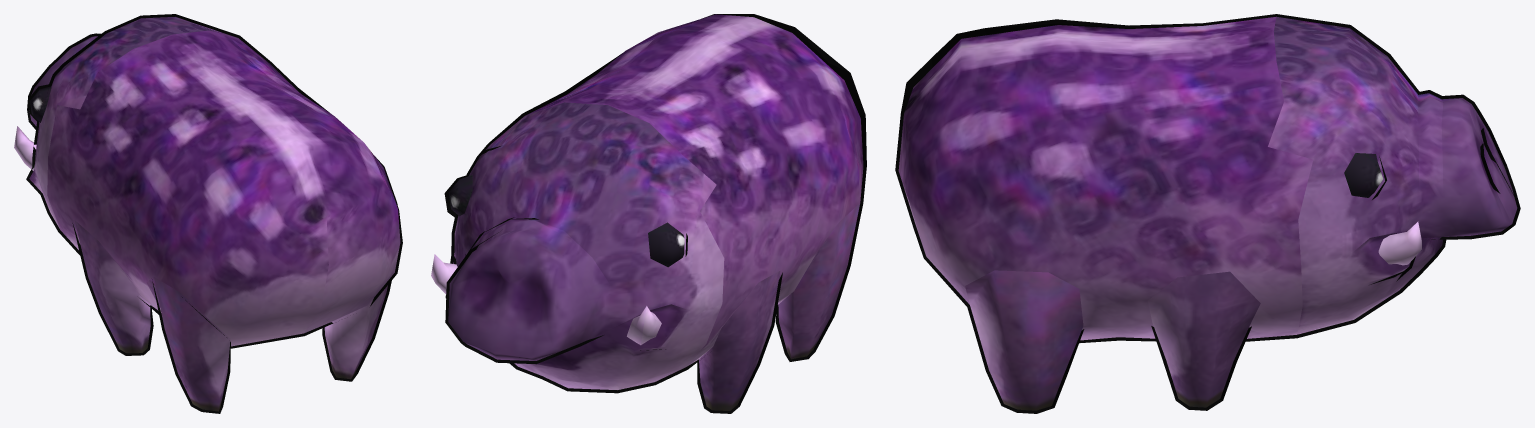
File: entity229644.gltf
3 renders of one model, left to right at view 1: azimuth 30°, elevation 25°; view 2: azimuth 150°, elevation 25°; view 3: azimuth 270°, elevation 25°, orthographic. The views are drawn at different scales.
Visible parts, largest first — view 1: node_mesh_pig_03; view 2: node_mesh_pig_03; view 3: node_mesh_pig_03.
Part boxes in pixels (x1,y1,x2,y2): node_mesh_pig_03: (14,14,402,413); node_mesh_pig_03: (431,14,866,413); node_mesh_pig_03: (895,14,1520,413).
Size of the model in its own units: 0.6295 by 0.7261 by 1.2.
